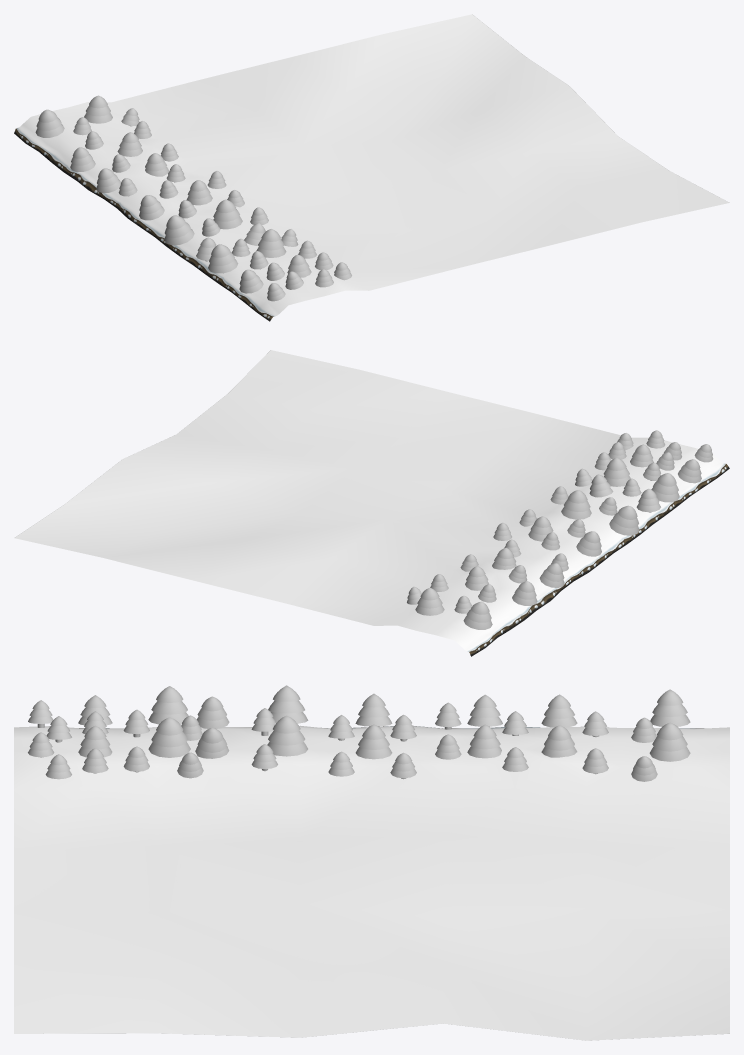
The model's file is roadSide.FBX.
3 views of the same model, one above another, from view 1: azimuth 30°, elevation 25°; view 2: azimuth 150°, elevation 25°; view 3: azimuth 270°, elevation 25° (orthographic). The views are drawn at different scales.
Parts seen in each view (by area): view 1: Group001, Cylinder029, Cylinder030; view 2: Group001, Cylinder029, Cylinder030; view 3: Group001, Cylinder030, Cylinder029.
Boxes of the visible parts, x1=… form: Group001: x1=14, y1=14, x2=729, y2=321; Cylinder029: x1=35, y1=109, x2=303, y2=301; Cylinder030: x1=84, y1=95, x2=351, y2=287; Group001: x1=14, y1=350, x2=729, y2=656; Cylinder029: x1=454, y1=442, x2=713, y2=629; Cylinder030: x1=407, y1=430, x2=665, y2=615; Group001: x1=14, y1=725, x2=729, y2=1040; Cylinder030: x1=28, y1=715, x2=690, y2=781; Cylinder029: x1=28, y1=685, x2=690, y2=742.
Size of the model in its own units: 4116 by 363 by 3937.
